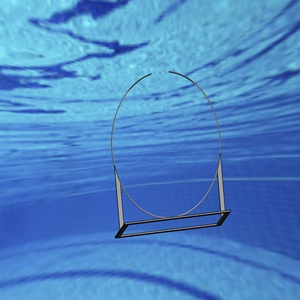circle: (108, 66, 229, 240)
